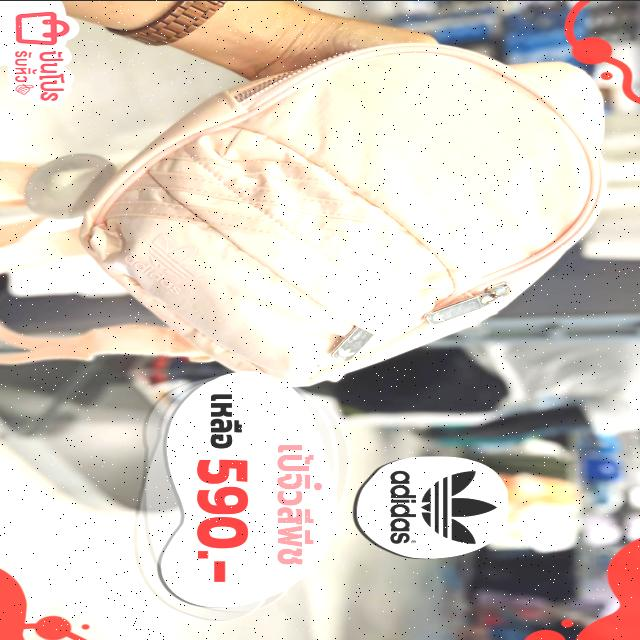Handbag: (80, 42, 606, 384)
